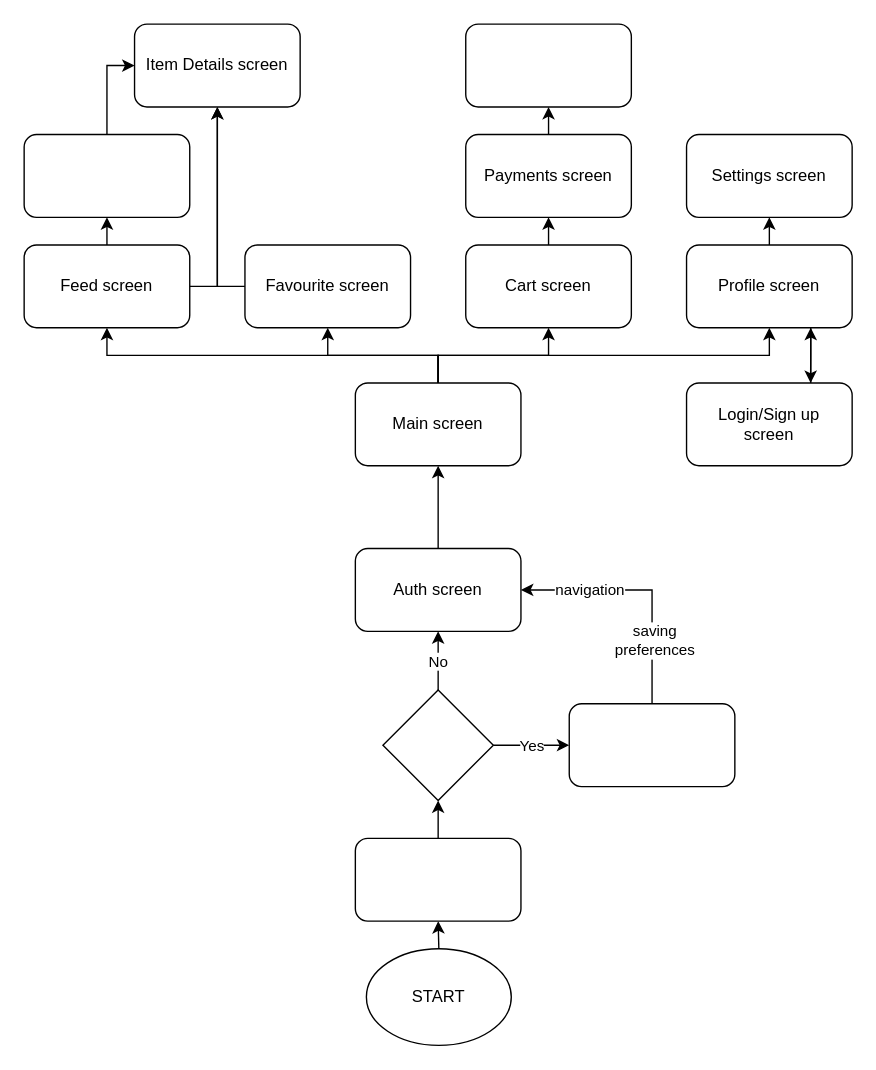
Image size: 876x1070. Some labels were removed from this diagram. Here are the shapes that lost their labels. From the top down, the centre of each, then its label:
At pixel 547 65: "Payment Status screen".
At pixel 106 175: "Search screen".
At pixel 437 744: "1st time?".
At pixel 651 744: "Welcome screen".
At pixel 437 879: "Splash screen".
